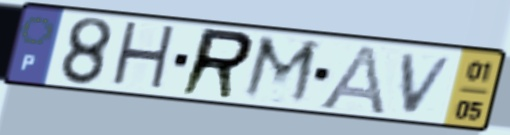8: (58, 15, 116, 88)
A: (313, 42, 389, 118)
H: (107, 19, 180, 95)
M: (237, 32, 324, 109)
R: (175, 25, 258, 102)
V: (399, 51, 459, 117)
